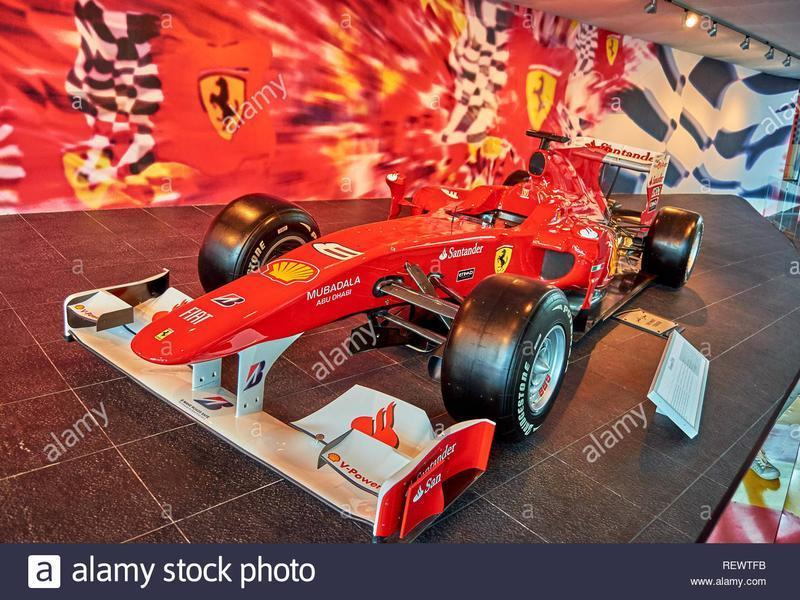f1: (77, 87, 730, 523)
